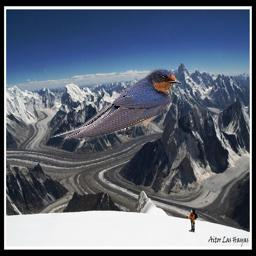Swallow: (51, 67, 182, 142)
